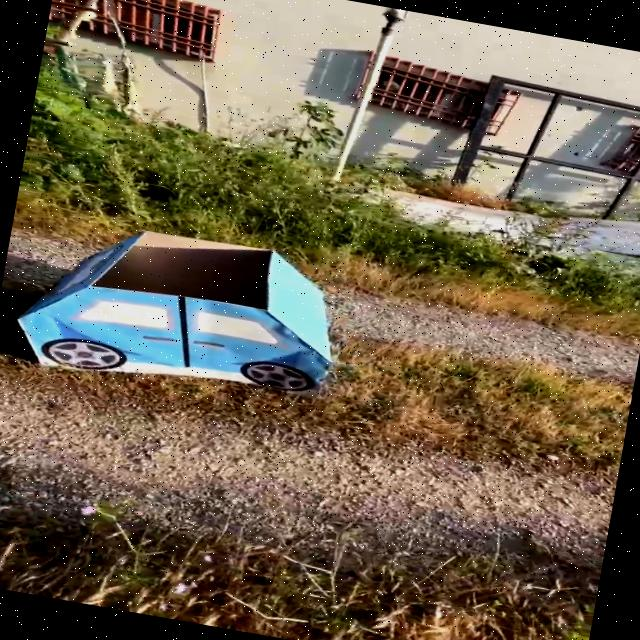blue_car: (0, 195, 381, 424)
